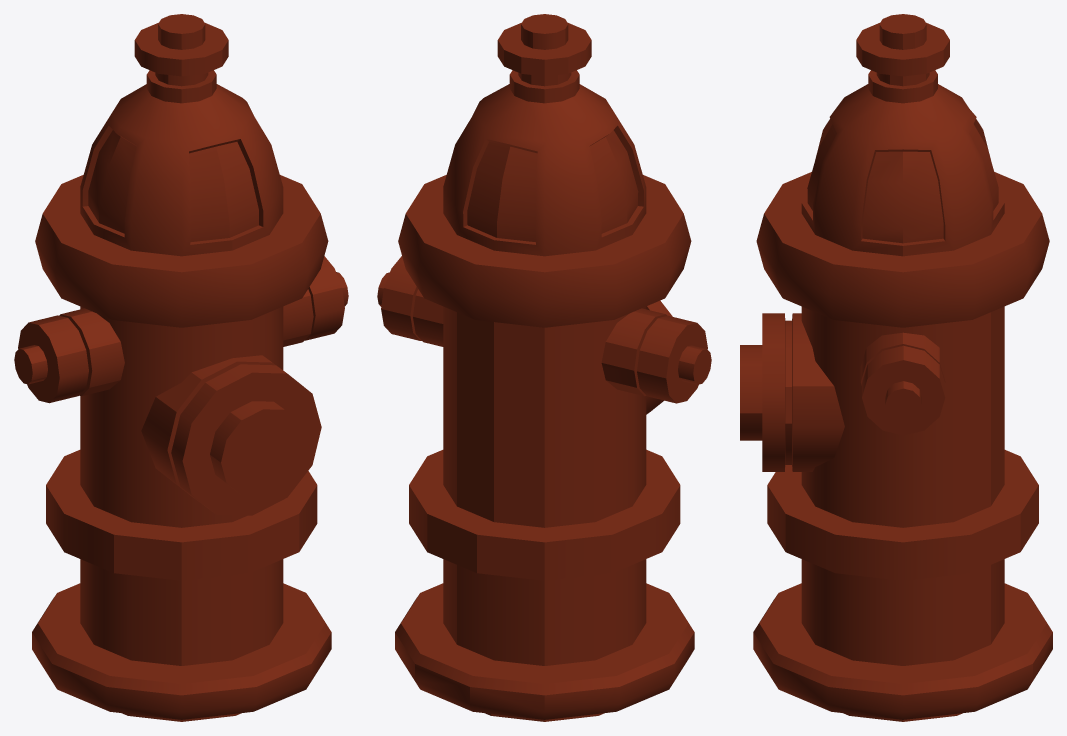
The model's file is FirePump.fbx.
3 renders of one model, left to right at view 1: azimuth 30°, elevation 25°; view 2: azimuth 150°, elevation 25°; view 3: azimuth 270°, elevation 25°, orthographic.
Parts seen in each view (by area): view 1: Circle; view 2: Circle; view 3: Circle.
Boxes of the visible parts, x1=… form: Circle: x1=14, y1=14, x2=348, y2=721; Circle: x1=377, y1=14, x2=711, y2=721; Circle: x1=740, y1=14, x2=1052, y2=721.
Size of the model in its own units: 55.56 by 110 by 47.66.
